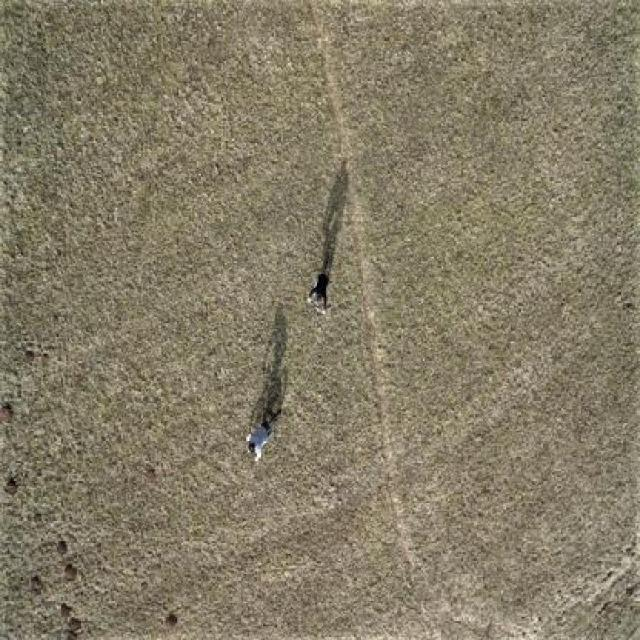Person: (236, 411, 272, 464), (296, 269, 332, 314)
